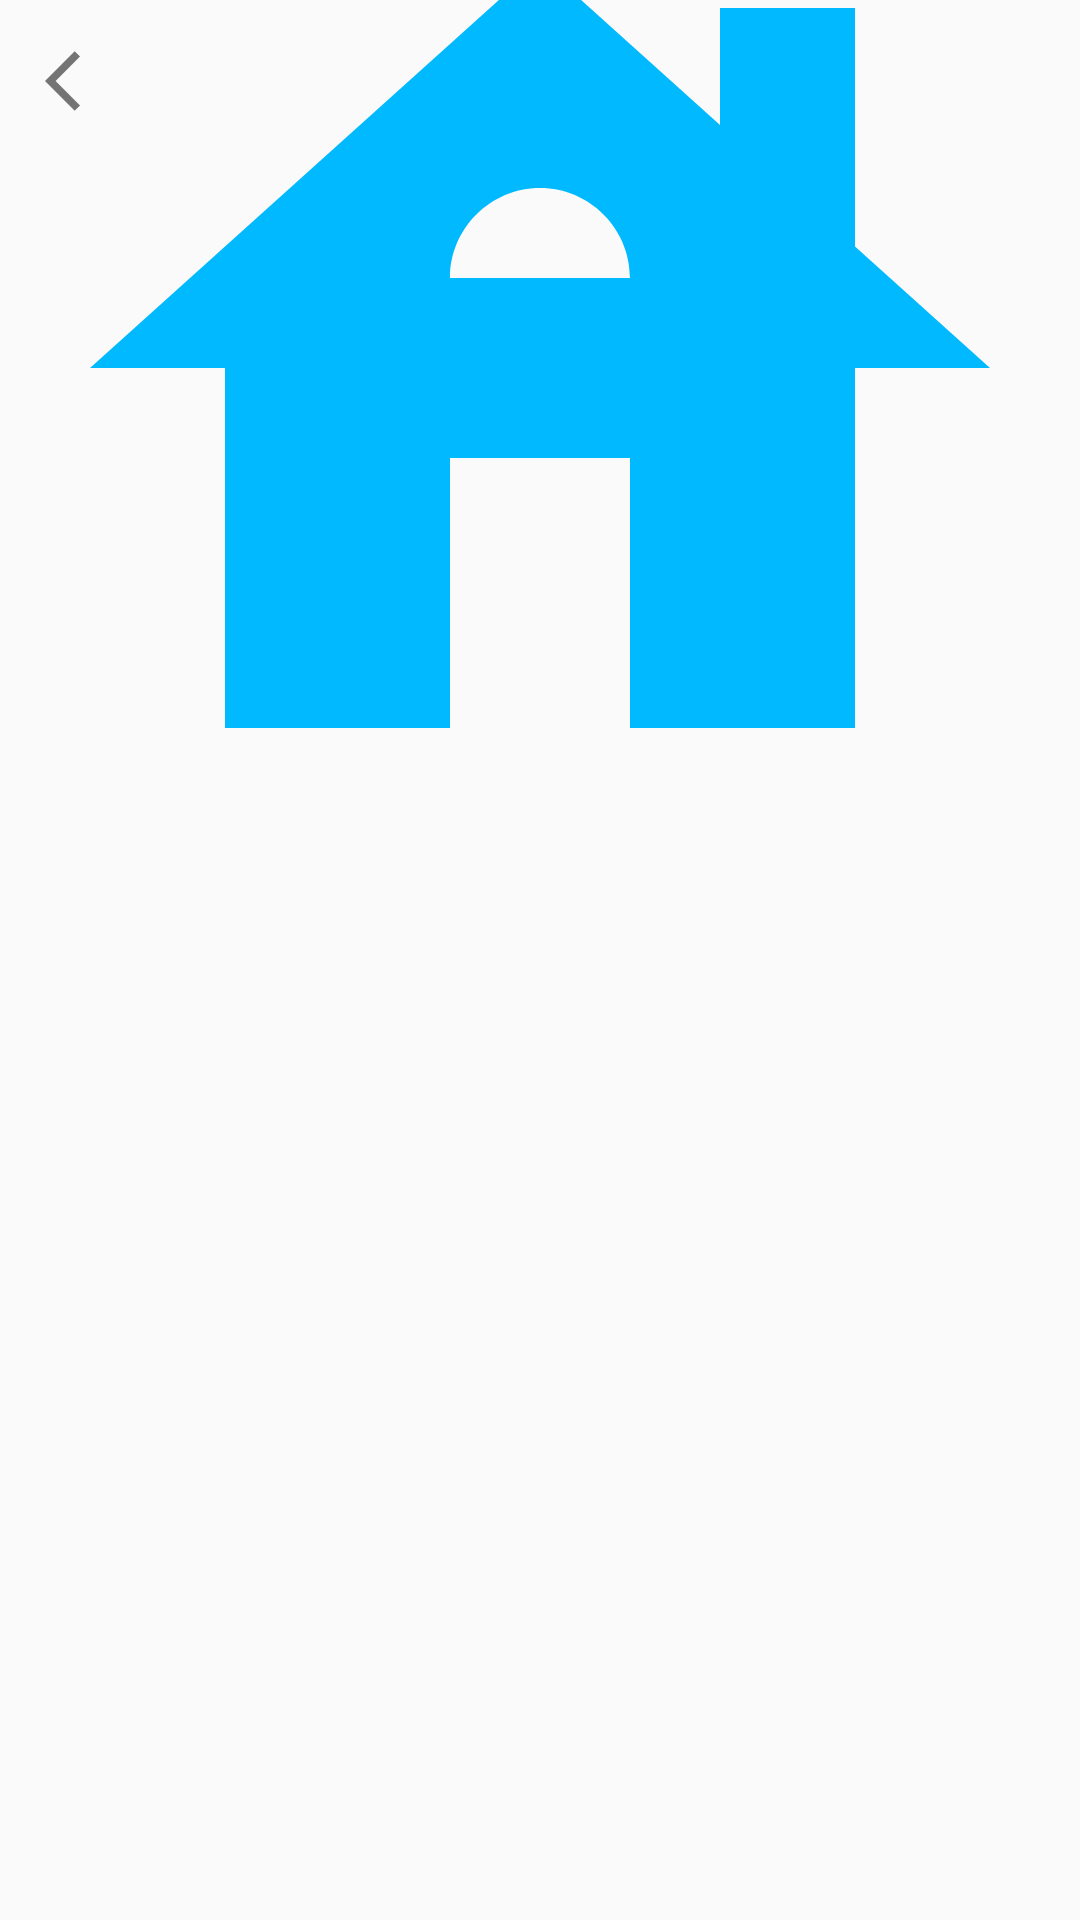

Icons on this 1080*1920 Android screen, each with the point to tap as (x=x, y=y):
back: (x=62, y=81)
